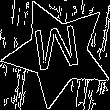M_S: (31, 24, 85, 81)
